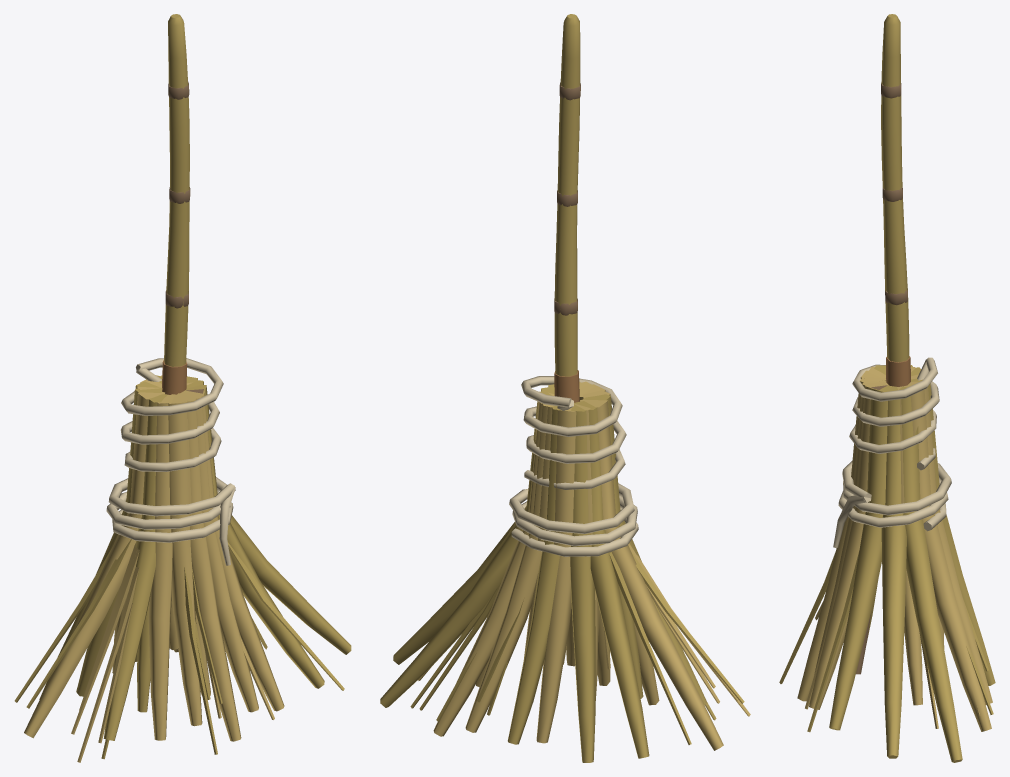
File: broom.glb
3 views of the same model, side by side, from view 1: azimuth 30°, elevation 25°; view 2: azimuth 150°, elevation 25°; view 3: azimuth 270°, elevation 25° (orthographic). The views are drawn at different scales.
Visible parts, largest first — view 1: bristles, rope, handle; view 2: bristles, rope, handle; view 3: bristles, handle, rope.
Boxes of the visible parts, x1,y1,x2,y2 form: bristles: [14, 375, 351, 762]; rope: [106, 358, 235, 565]; handle: [162, 14, 190, 394]; bristles: [380, 381, 750, 762]; rope: [509, 376, 638, 556]; handle: [554, 14, 580, 402]; bristles: [779, 365, 995, 762]; handle: [881, 14, 910, 386]; rope: [833, 357, 951, 548].
Size of what is drawn, in the model's own units: 0.6992 by 1.39 by 0.4014.
